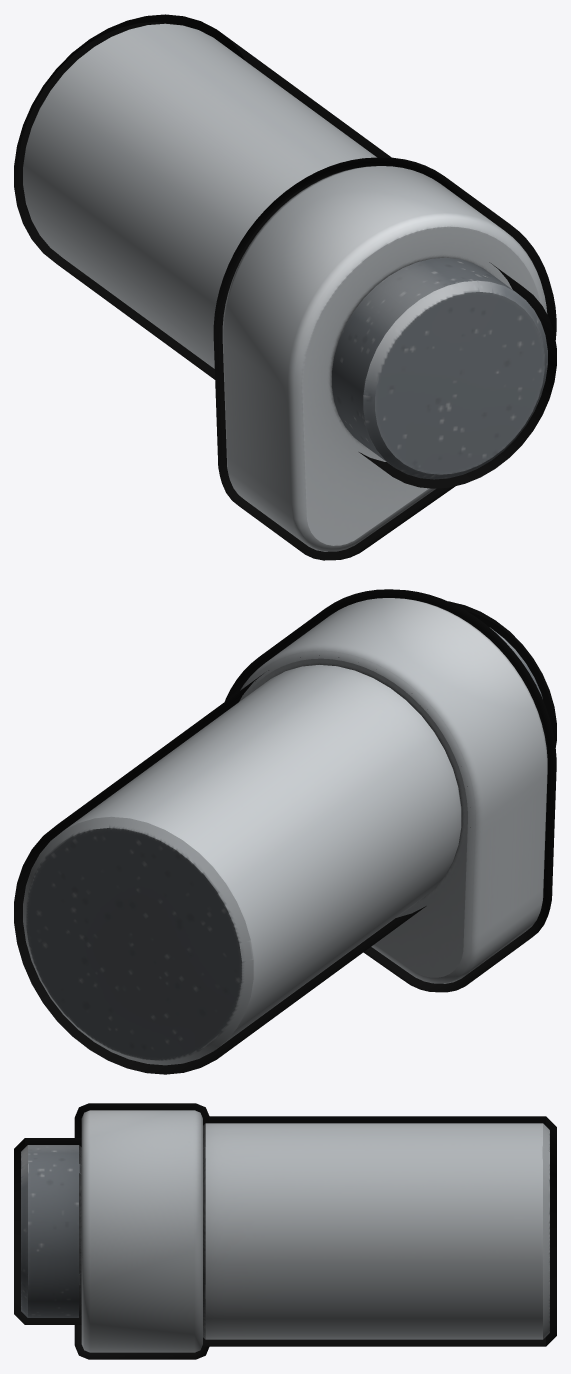
The model's file is ExhaustCamshaft.fbx.
3 renders of one model, top to bottom at view 1: azimuth 30°, elevation 25°; view 2: azimuth 150°, elevation 25°; view 3: azimuth 270°, elevation 25°, orthographic. The views are drawn at different scales.
Visible parts, largest first — view 1: ExhaustCamshaft; view 2: ExhaustCamshaft; view 3: ExhaustCamshaft.
Boxes of the visible parts, left/top/right/bottom form: ExhaustCamshaft: left=14, top=14, right=556, bottom=560; ExhaustCamshaft: left=14, top=589, right=556, bottom=1074; ExhaustCamshaft: left=14, top=1103, right=556, bottom=1359.
Size of the model in its own units: 0.0296 by 0.0341 by 0.0626.
Materials: 1 (1 with a texture image).
